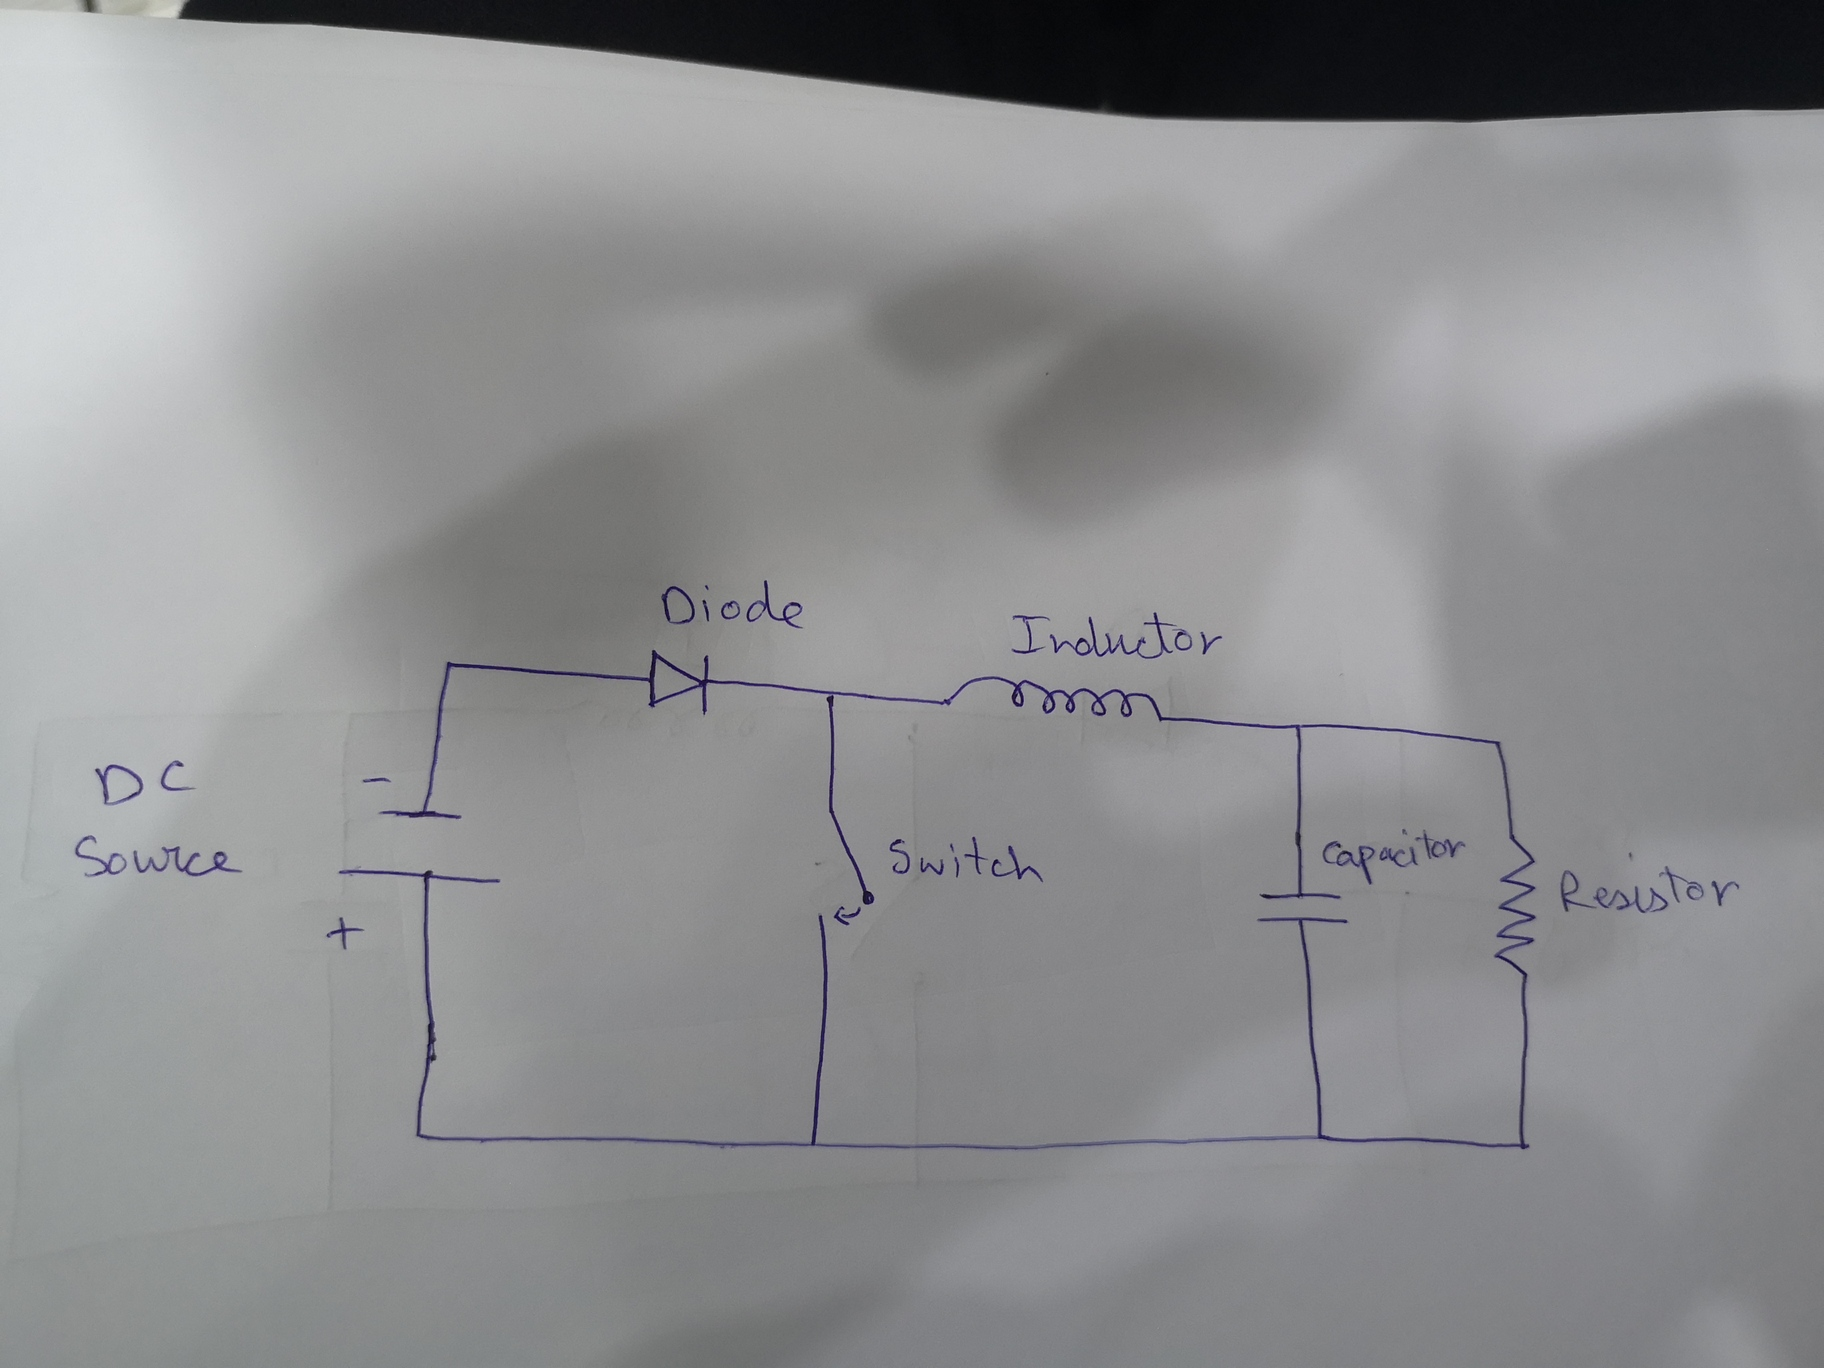capacitor.unpolarized: (1254, 884, 1354, 933)
diode: (641, 647, 715, 721)
inductor: (938, 670, 1171, 729)
junction: (432, 650, 468, 683), (404, 1118, 437, 1150), (1306, 1121, 1337, 1152), (813, 683, 844, 714), (796, 1129, 827, 1157), (1509, 1129, 1535, 1157), (1486, 733, 1511, 756), (1287, 717, 1308, 739)
resistor: (1491, 831, 1545, 981)
switch: (811, 803, 878, 930)
text: (1553, 849, 1745, 918), (1005, 609, 1216, 662), (885, 832, 1051, 887), (70, 831, 241, 881), (1314, 829, 1471, 882), (653, 578, 804, 632), (88, 757, 197, 810)
voltage.dc: (317, 770, 508, 954)
